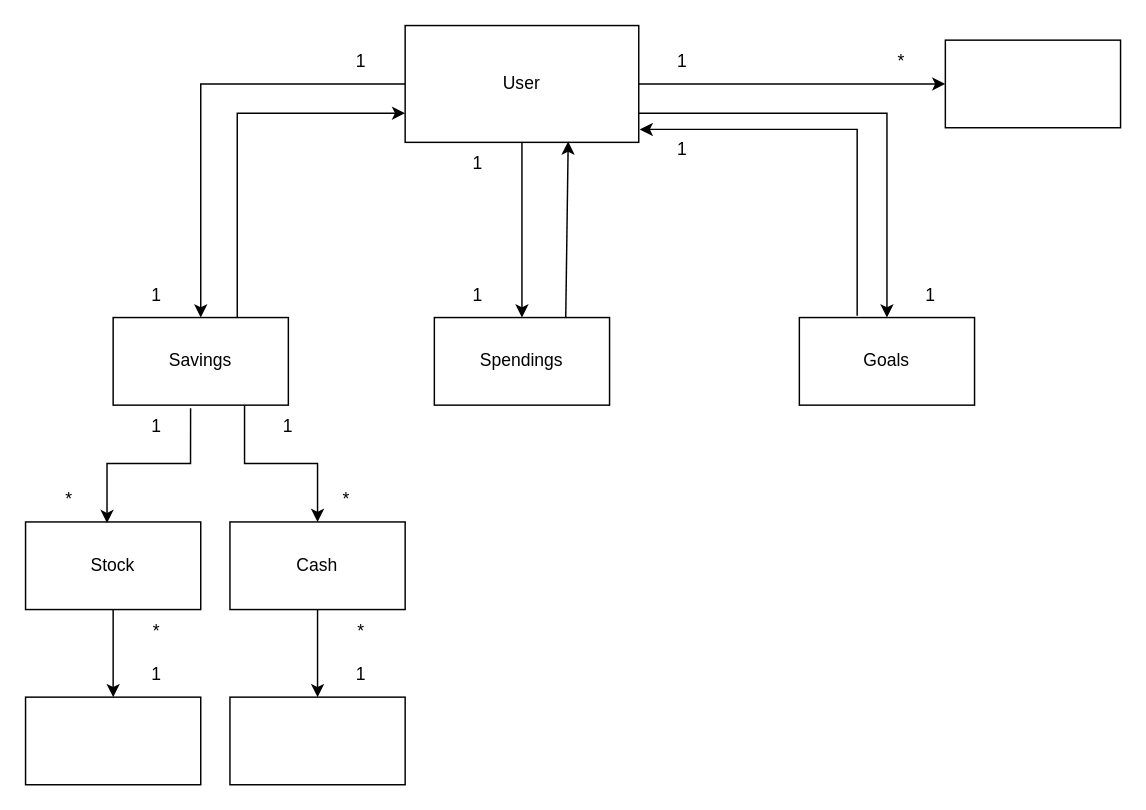
Some shapes in this 1146 by 810 pixel diagram are drawn without their labels. Here are the shapes that lost their labels. From the top down, the box of each, then its label:
(944, 39, 1121, 128): Role
(24, 696, 201, 785): StockData
(228, 696, 405, 785): CurrencyData
